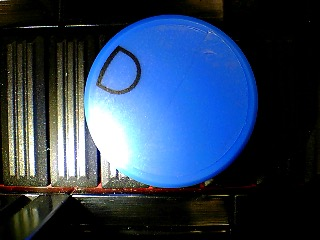MIPO1: (84, 14, 259, 189)
